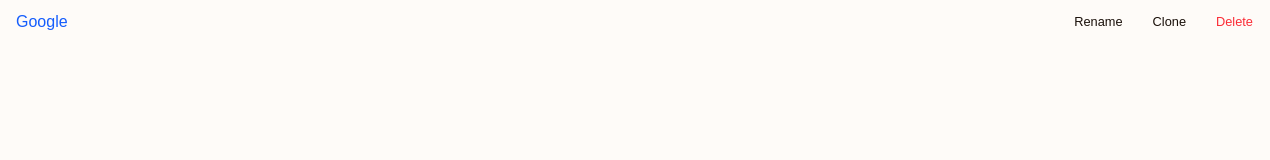
Scenario: EntryItem › shows rename input when Rename is clicked
This screenshot has width=1270, height=160.
Click the button "Rename".
click(1098, 22)  # box [1063,8,1134,36]
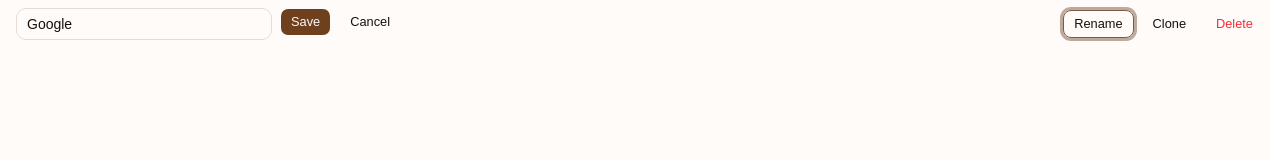
Expected: the field showing "Google" is shown, [16,8,272,40]
Expected: the button "Save" is shown, [280,8,331,36]
Expected: the button "Cancel" is shown, [339,8,401,36]
